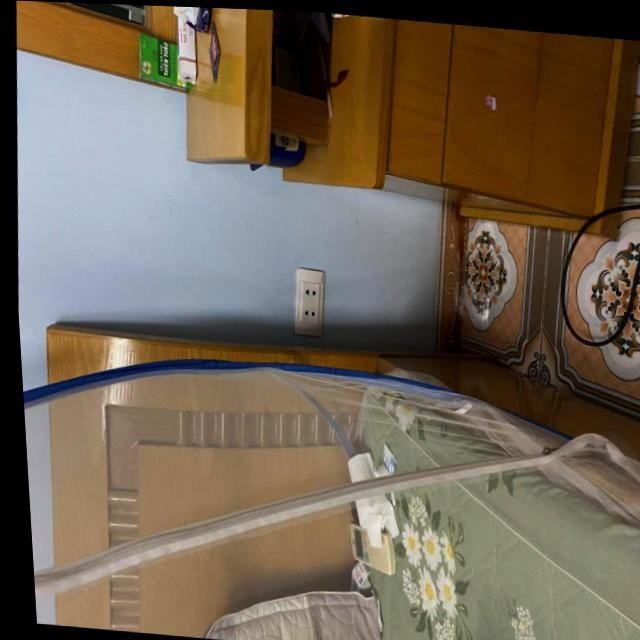outlet: (289, 266, 329, 337)
